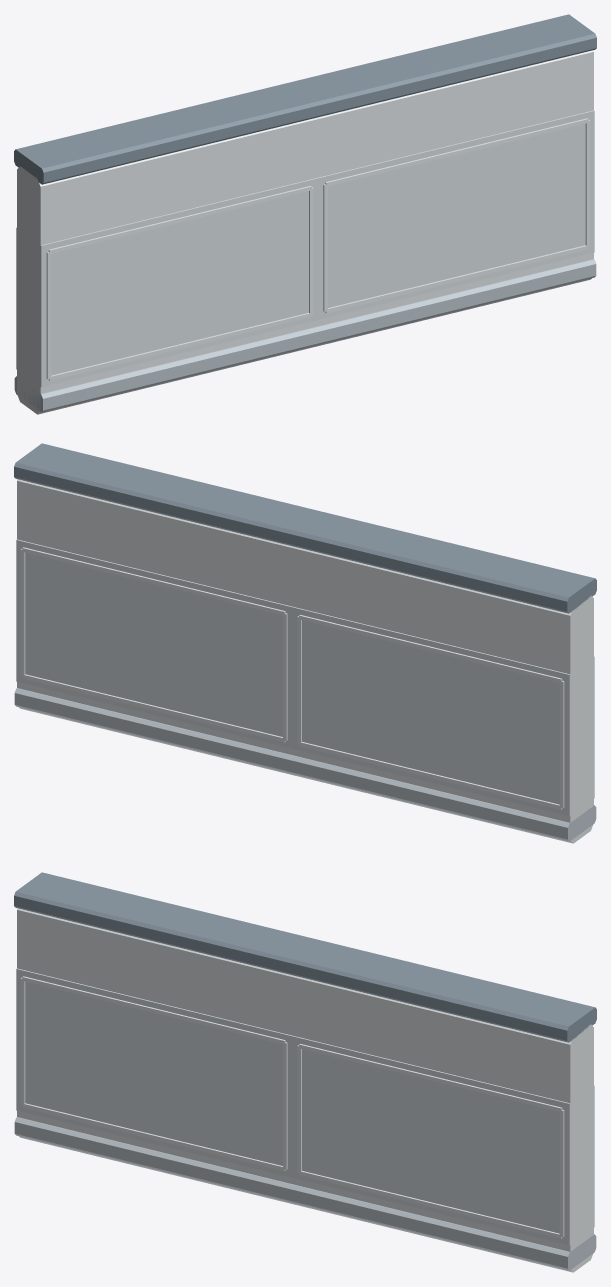
Rendered from wall_hospital_lobby.glb.
3 views of the same model, one above another, from view 1: azimuth 30°, elevation 25°; view 2: azimuth 150°, elevation 25°; view 3: azimuth 330°, elevation 25° (orthographic).
Parts seen in each view (by area): view 1: Part_005, Part_001, Part_002, Part_003, Part_009, Part_017, Part_015, Part_007, Part_011, Part_021, Part_019, Part_013; view 2: Part_004, Part_001, Part_002, Part_003, Part_008, Part_016, Part_014, Part_006, Part_010, Part_020, Part_018, Part_012; view 3: Part_005, Part_001, Part_002, Part_003, Part_017, Part_009, Part_007, Part_015, Part_021, Part_011, Part_013, Part_019.
Boxes of the visible parts, bbox=[...] form: Part_005: bbox=[40, 110, 594, 387]; Part_001: bbox=[17, 50, 593, 414]; Part_002: bbox=[14, 14, 596, 184]; Part_003: bbox=[14, 259, 596, 412]; Part_009: bbox=[48, 186, 311, 253]; Part_017: bbox=[325, 118, 588, 186]; Part_015: bbox=[325, 245, 588, 313]; Part_007: bbox=[48, 313, 311, 380]; Part_011: bbox=[46, 251, 51, 379]; Part_021: bbox=[585, 119, 590, 247]; Part_019: bbox=[323, 184, 327, 311]; Part_013: bbox=[309, 187, 313, 314]; Part_004: bbox=[16, 539, 570, 816]; Part_001: bbox=[17, 479, 593, 843]; Part_002: bbox=[14, 443, 596, 613]; Part_003: bbox=[14, 688, 596, 841]; Part_008: bbox=[299, 615, 562, 683]; Part_016: bbox=[22, 547, 285, 615]; Part_014: bbox=[22, 674, 285, 742]; Part_006: bbox=[299, 742, 562, 809]; Part_010: bbox=[559, 680, 564, 808]; Part_020: bbox=[20, 548, 25, 676]; Part_018: bbox=[283, 613, 287, 740]; Part_012: bbox=[297, 616, 301, 743]; Part_005: bbox=[16, 968, 570, 1245]; Part_001: bbox=[17, 908, 593, 1272]; Part_002: bbox=[14, 872, 596, 1042]; Part_003: bbox=[14, 1117, 596, 1270]; Part_017: bbox=[299, 1044, 562, 1112]; Part_009: bbox=[22, 976, 285, 1044]; Part_007: bbox=[22, 1103, 285, 1171]; Part_015: bbox=[299, 1171, 562, 1238]; Part_021: bbox=[559, 1109, 564, 1237]; Part_011: bbox=[20, 977, 25, 1105]; Part_013: bbox=[283, 1042, 287, 1169]; Part_019: bbox=[297, 1045, 301, 1172].
Size of the model in its own units: 2.7 by 1.16 by 0.25.
